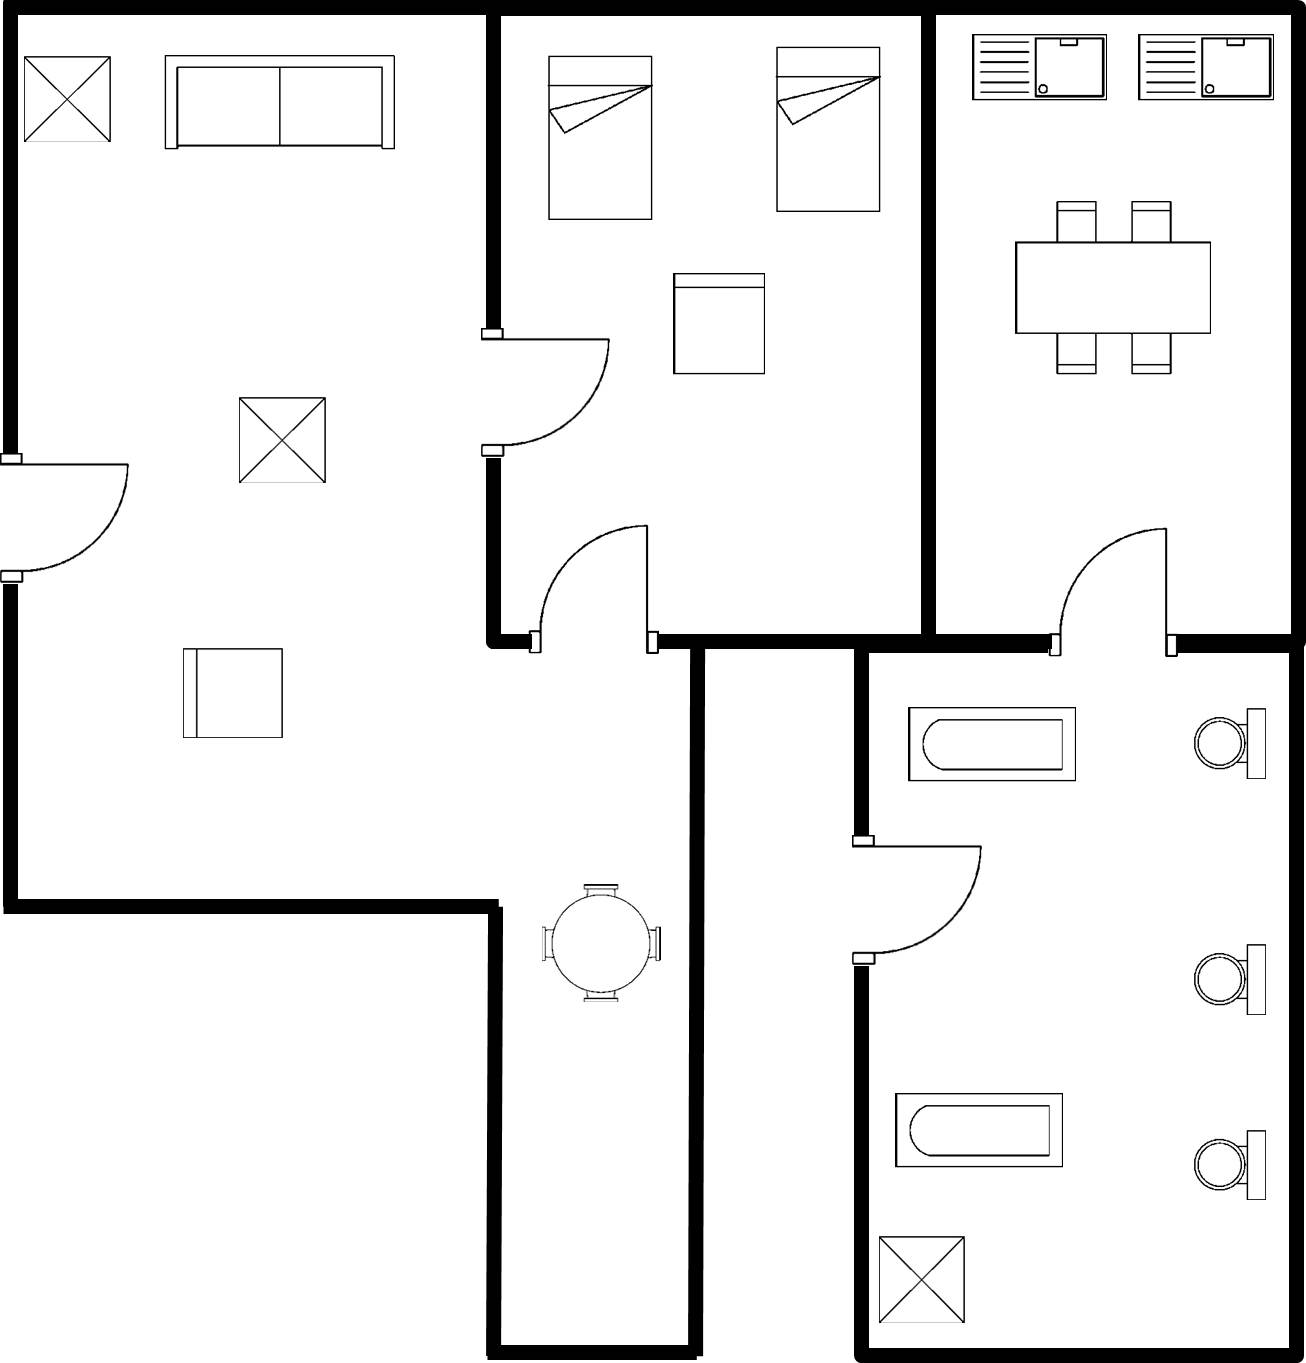bed: (764, 37, 895, 224), (536, 46, 663, 232)
coffee_table: (227, 384, 338, 496), (871, 1230, 982, 1333), (19, 50, 120, 153)
dining_table: (1004, 190, 1228, 382)
large_sink: (1186, 934, 1278, 1022), (1183, 1121, 1274, 1209), (1186, 700, 1274, 789)
large_sofa: (155, 45, 404, 164)
round_table: (530, 874, 672, 1014)
sink: (1130, 26, 1286, 117), (963, 24, 1118, 114)
small_sofa: (168, 638, 294, 748), (664, 262, 778, 385)
tub: (899, 698, 1090, 796), (888, 1084, 1079, 1178)
